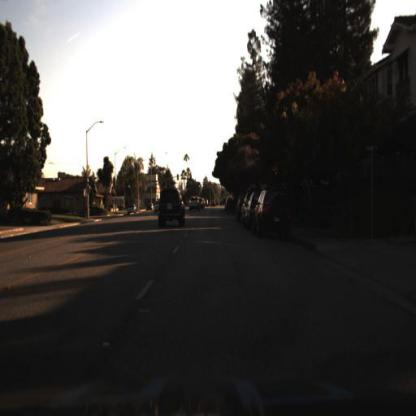car: (253, 189, 289, 234), (156, 189, 186, 232), (247, 191, 258, 230), (188, 193, 202, 216)
